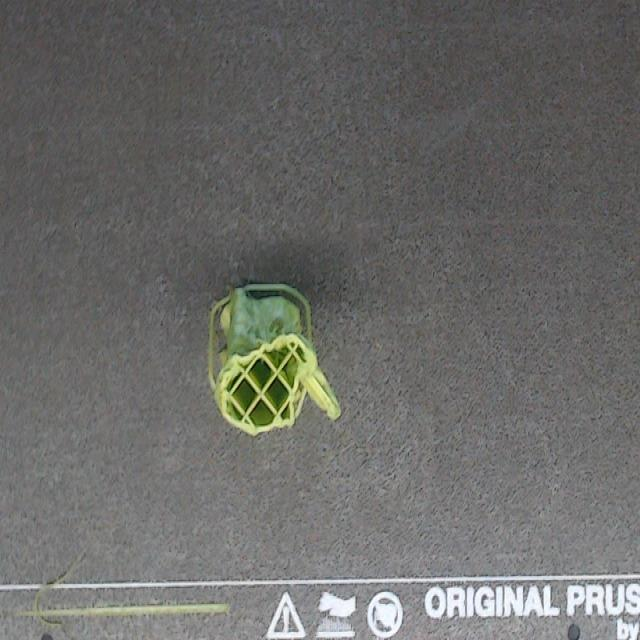mistake: (29, 551, 84, 619), (271, 316, 288, 335)
